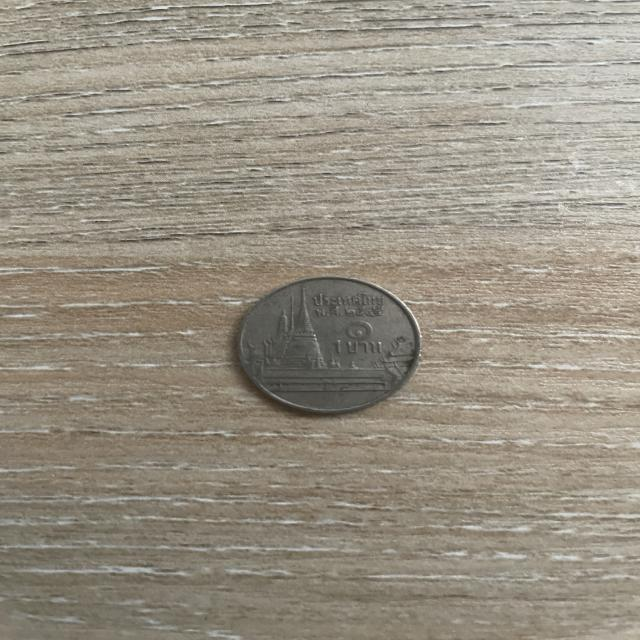1 Bath: (226, 269, 435, 423)
